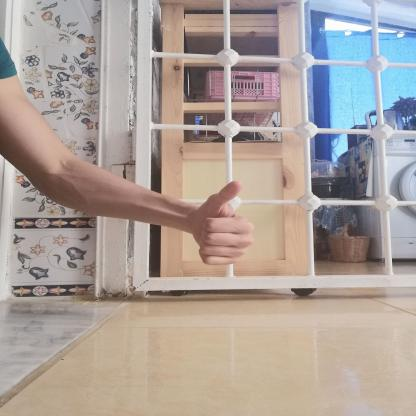ALIF: (181, 170, 269, 278)
